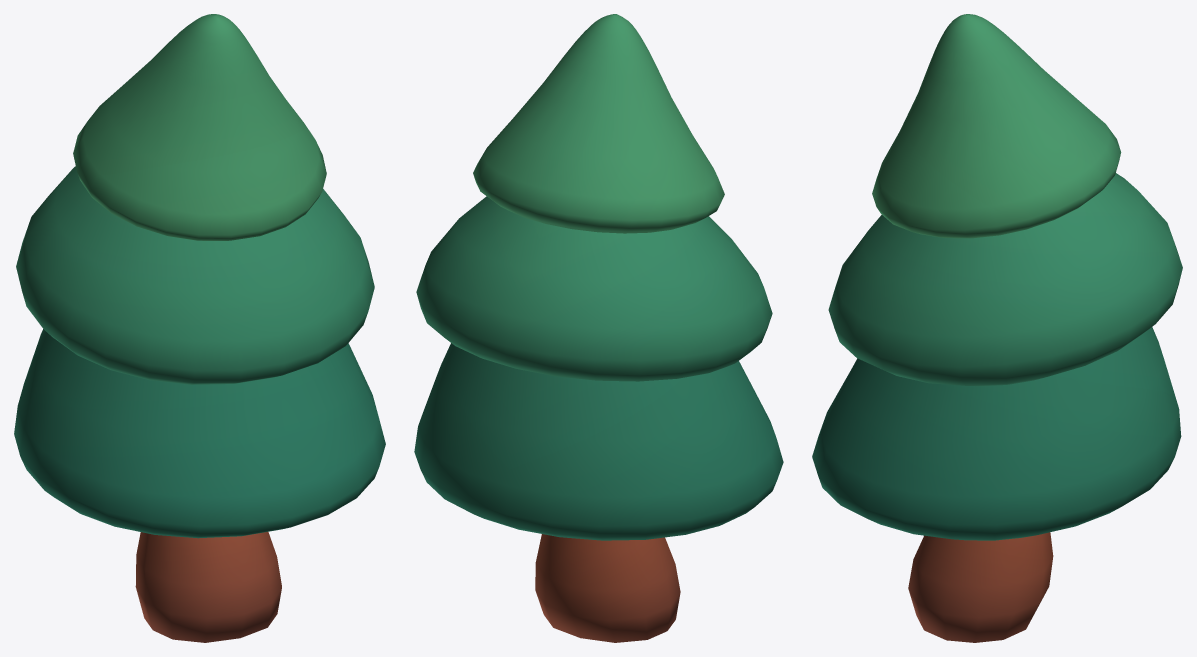
The model's file is pine_small.gltf.
The picture shows the model from 3 angles, left to right: view 1: azimuth 30°, elevation 25°; view 2: azimuth 150°, elevation 25°; view 3: azimuth 270°, elevation 25°; orthographic projection.
Visible parts, largest first — view 1: PineSmall; view 2: PineSmall; view 3: PineSmall.
Boxes of the visible parts, left/top/right/bottom form: PineSmall: left=14, top=14, right=385, bottom=642; PineSmall: left=414, top=14, right=783, bottom=642; PineSmall: left=812, top=14, right=1182, bottom=642.
Bounding box in the file's own units: 1.55 × 2.77 × 1.55.
Materials: 1 (1 with a texture image).
